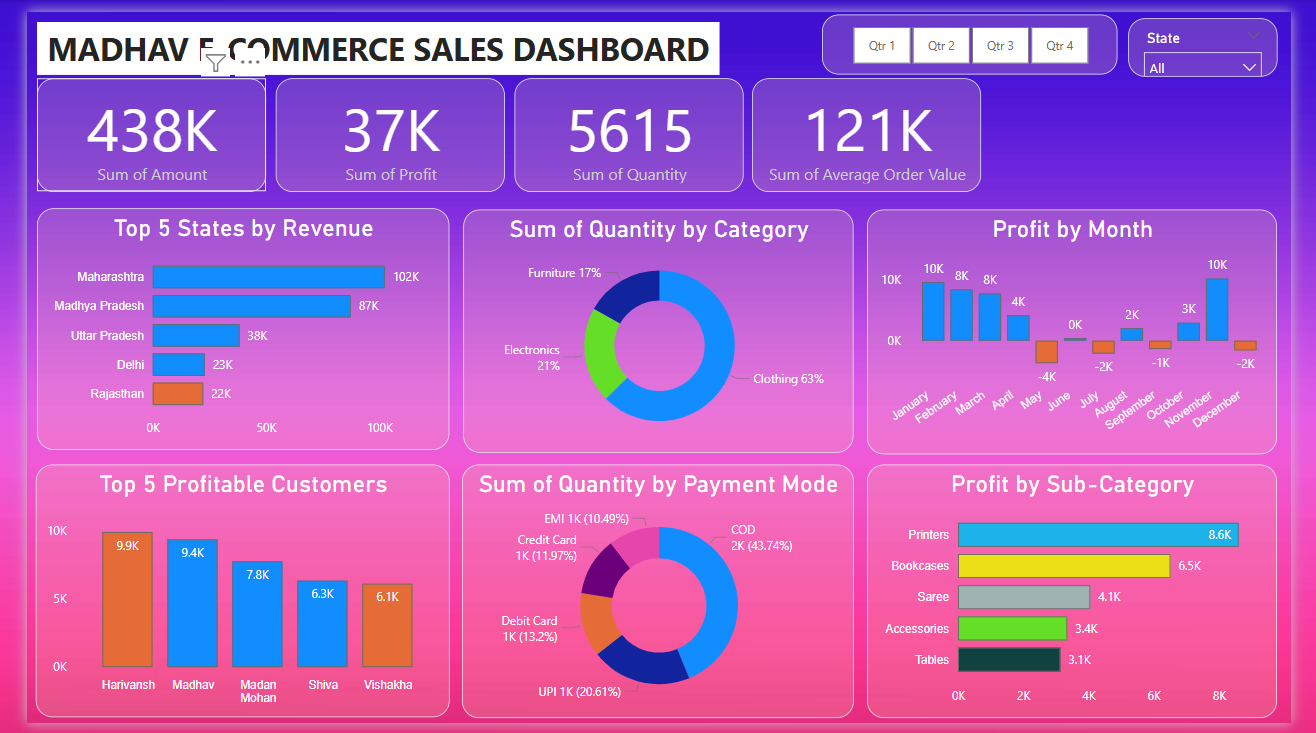

Layout of this report page (visuals, bound fields, positions):
{"tool":"powerbi","page":{"name":"Page 1","canvas":[1280,720],"ordinal":0},"visuals":[{"type":"textbox","box":[10.1,10.1,691.2,53.3],"z":0},{"type":"columnChart","title":"Profit by Month","fields":{"Category":["Orders.Order Date.Variation.Date Hierarchy.Month"],"Y":["Details.Profit"]},"box":[850.4,199.8,415.3,248],"z":1000},{"type":"barChart","title":"Profit by Sub-Category","fields":{"Category":["Details.Sub-Category"],"Y":["Details.Profit"]},"box":[850.4,457.8,415.3,256.5],"z":2000},{"type":"donutChart","fields":{"Category":["Details.Category"],"Y":["Details.Quantity"]},"box":[442.2,199.8,395.4,246.6],"z":3000},{"type":"donutChart","title":"Sum of Quantity by Payment Mode","fields":{"Category":["Details.PaymentMode"],"Y":["Details.Quantity"]},"box":[440.8,457.8,396.9,256.5],"z":4000},{"type":"card","fields":{"Values":["Details.Amount"]},"box":[10.1,67.7,231.8,115.2],"z":5000},{"type":"card","fields":{"Values":["Details.Average Order Value"]},"box":[734.4,67.7,231.8,115.2],"z":6000},{"type":"card","fields":{"Values":["Details.Quantity"]},"box":[493.9,67.7,231.8,115.2],"z":7000},{"type":"card","fields":{"Values":["Details.Profit"]},"box":[252,67.7,231.8,115.2],"z":8000},{"type":"barChart","title":"Top 5 States by Revenue","fields":{"Category":["Orders.State"],"Y":["Details.Amount"]},"box":[10.1,198.7,417.6,244.8],"z":9000},{"type":"columnChart","title":"Top 5 Profitable Customers","fields":{"Category":["Orders.CustomerName"],"Y":["Details.Amount"]},"box":[8.6,457.9,419,256.3],"z":10000},{"type":"slicer","fields":{"Values":["Orders.State"]},"box":[1114.6,5.8,151.2,59],"z":11000},{"type":"slicer","fields":{"Values":["Orders.Order Date.Variation.Date Hierarchy.Quarter"]},"box":[805,2.9,299.5,60.5],"z":12000}]}

Visuals, with their boxes in screenshot pixels (x1, y1, x2, y2), scaled from the page's 1280x720 canvas onto the 1316x733 screenshot:
textbox: select_region(10, 10, 721, 65)
"Profit by Month" columnChart: select_region(874, 203, 1301, 456)
"Profit by Sub-Category" barChart: select_region(874, 466, 1301, 727)
donutChart - Details.Category x Details.Quantity: select_region(455, 203, 861, 454)
"Sum of Quantity by Payment Mode" donutChart: select_region(453, 466, 861, 727)
card - Details.Amount: select_region(10, 69, 249, 186)
card - Details.Average Order Value: select_region(755, 69, 993, 186)
card - Details.Quantity: select_region(508, 69, 746, 186)
card - Details.Profit: select_region(259, 69, 497, 186)
"Top 5 States by Revenue" barChart: select_region(10, 202, 440, 452)
"Top 5 Profitable Customers" columnChart: select_region(9, 466, 440, 727)
slicer - Orders.State: select_region(1146, 6, 1301, 66)
slicer - Orders.Order Date.Variation.Date Hierarchy.Quarter: select_region(828, 3, 1136, 65)
